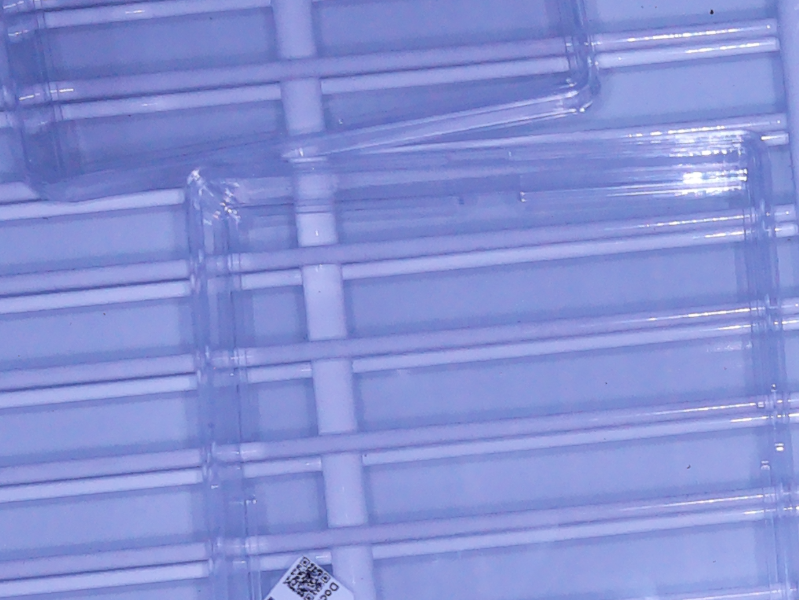plate: (168, 126, 799, 600), (1, 1, 607, 206)
